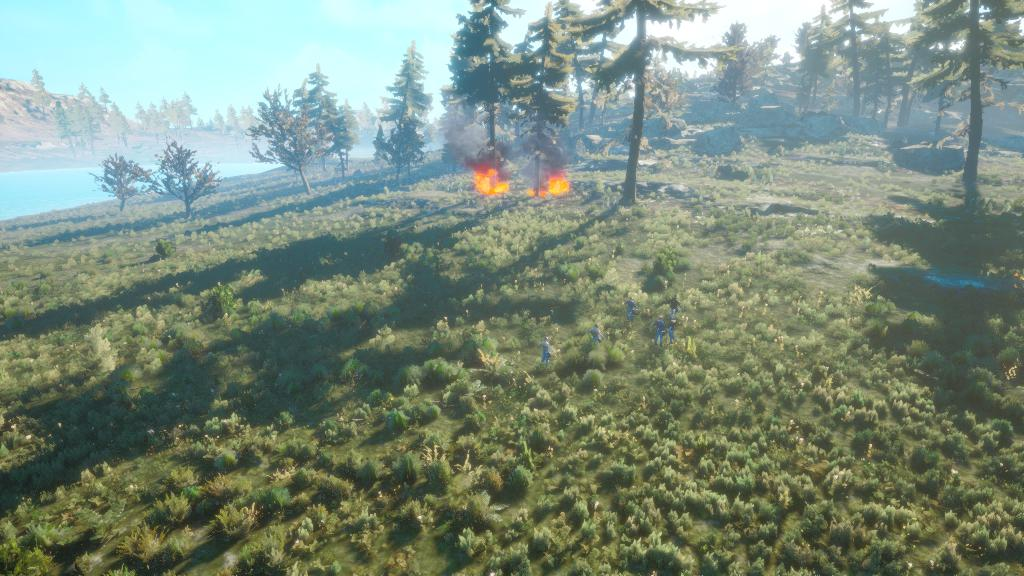Fire: (470, 168, 516, 197), (531, 175, 574, 196)
human: (651, 286, 689, 356), (535, 323, 569, 374), (619, 280, 645, 327), (582, 316, 612, 351)
smoke: (539, 140, 568, 172), (462, 141, 501, 164)
